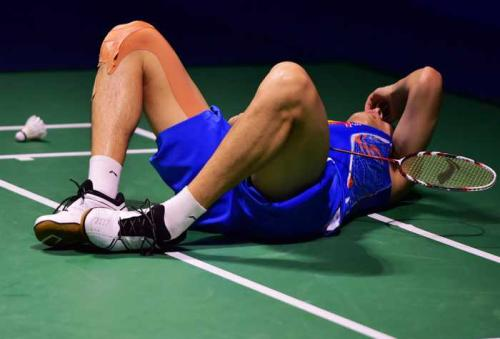fall: (28, 10, 469, 261)
